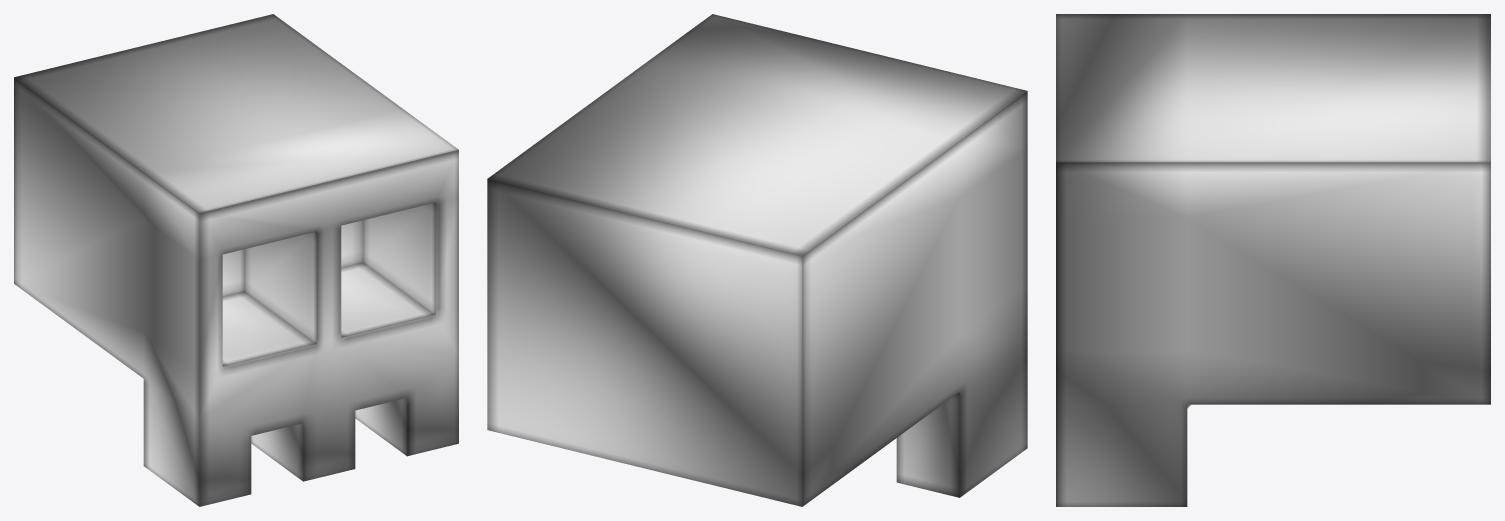
The model's file is Skull-01.fbx.
The picture shows the model from 3 angles, left to right: view 1: azimuth 30°, elevation 25°; view 2: azimuth 150°, elevation 25°; view 3: azimuth 270°, elevation 25°; orthographic projection. The views are drawn at different scales.
Visible parts, largest first — view 1: Skull-01; view 2: Skull-01; view 3: Skull-01.
Boxes of the visible parts, box(x1,y1,x2,y2) form: Skull-01: box(14, 14, 458, 506); Skull-01: box(487, 14, 1027, 506); Skull-01: box(1056, 14, 1490, 506).
Bounding box in the file's own units: 0.2097 × 0.227 × 0.2596.
